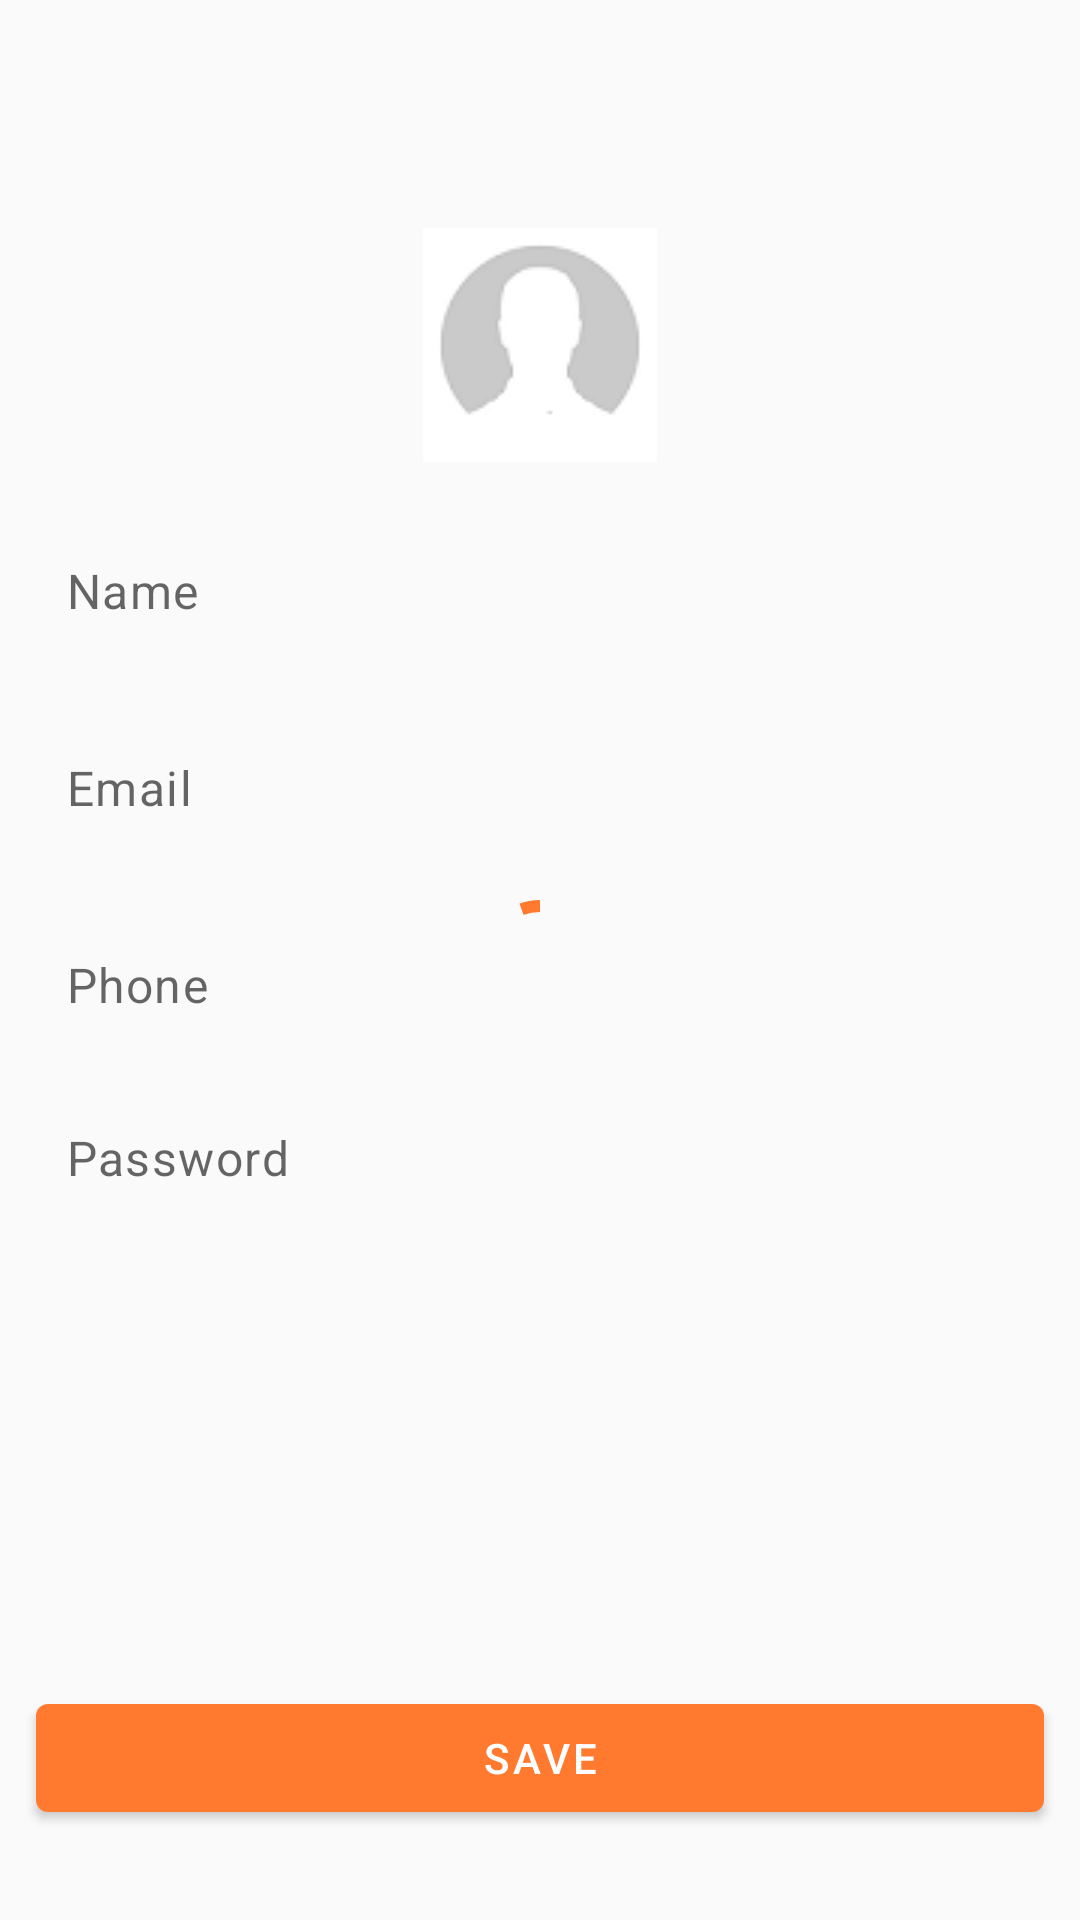

Icons on this 1080×1920 Android screen, each with the point to tap as (x=x, y=y):
profile: (x=540, y=330)
